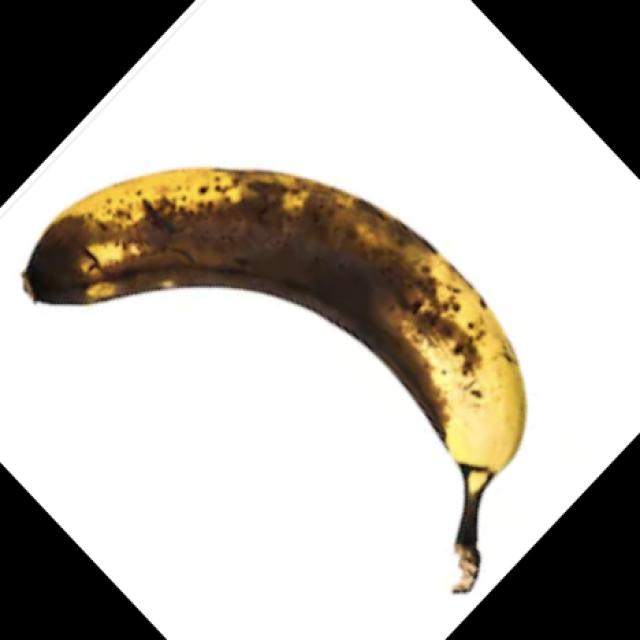overripe: (20, 154, 530, 526)
